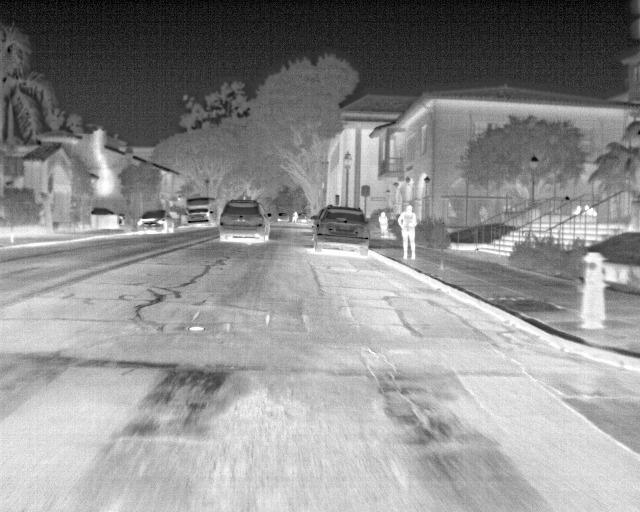bicycle: (309, 204, 372, 255), (217, 198, 271, 244), (186, 195, 220, 228), (136, 209, 178, 233), (89, 205, 118, 217), (275, 210, 291, 223)
empty: (396, 202, 419, 262), (378, 213, 391, 236), (581, 203, 598, 219)
